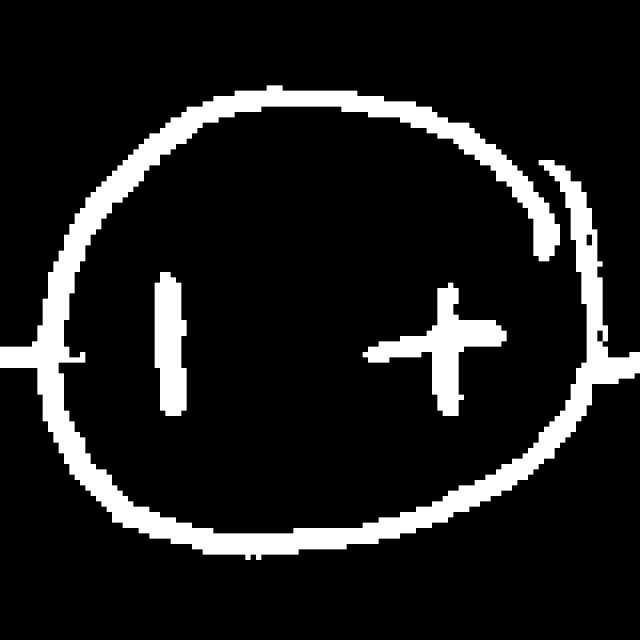voltage_source: (39, 35, 613, 577)
